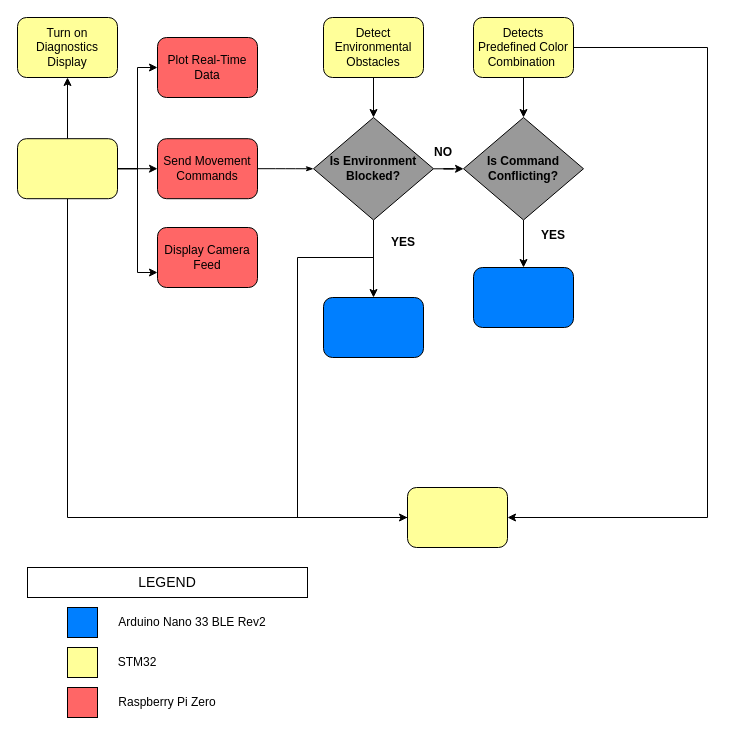
This 733x735 diagram has some shape labels left out. The shapes that lost their labels are listed below. From the top down, each one's centre as x and y in pixels, then its label:
(x=67, y=168): Unlock Vehicle
(x=523, y=297): Choose Lower Speed
(x=373, y=327): Prevent Collision
(x=457, y=517): Generate Sound
